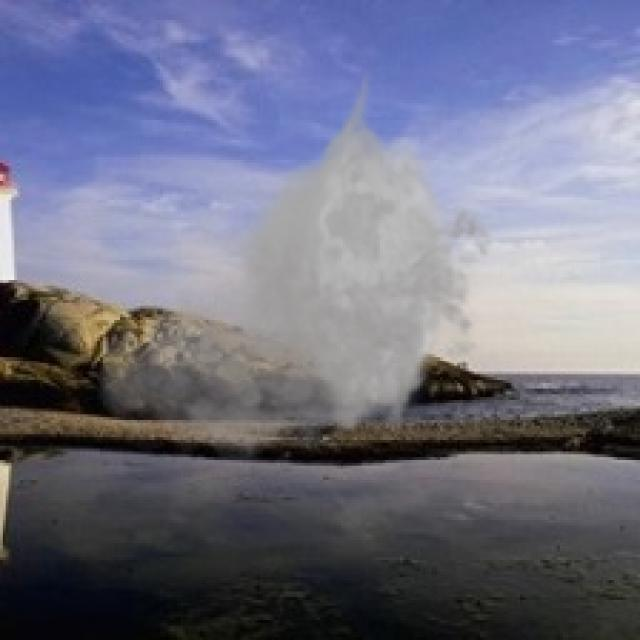Smoke: (91, 66, 506, 474)
